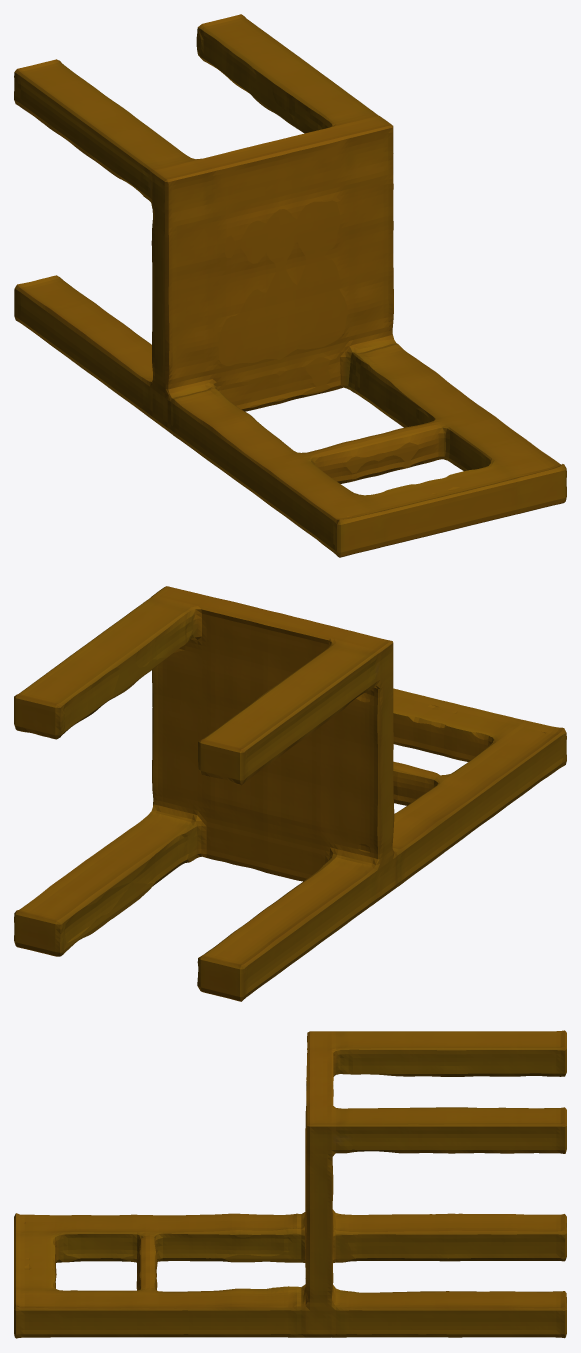
Rendered from wooden-chair.glb.
3 renders of one model, top to bottom at view 1: azimuth 30°, elevation 25°; view 2: azimuth 150°, elevation 25°; view 3: azimuth 270°, elevation 25°, orthographic. The views are drawn at different scales.
Visible parts, largest first — view 1: crate.ply; view 2: crate.ply; view 3: crate.ply.
Part boxes in pixels (left/top/right/bottom): crate.ply: left=14, top=14, right=566, bottom=557; crate.ply: left=14, top=586, right=566, bottom=1001; crate.ply: left=14, top=1030, right=566, bottom=1338.
Size of the model in its own units: 0.8119 by 0.8513 by 1.98.
